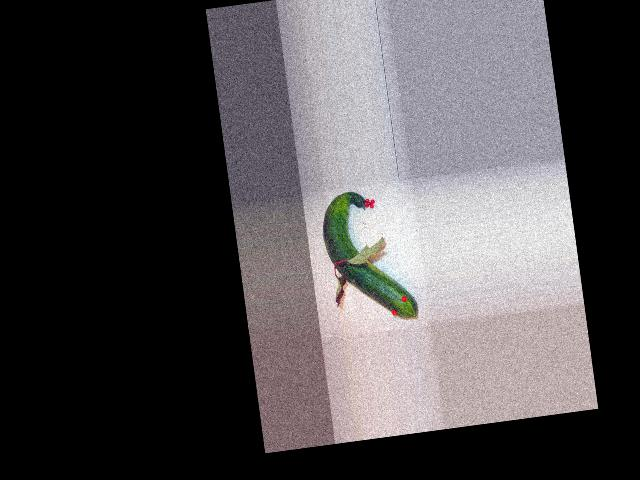cucumber: (318, 184, 419, 327)
